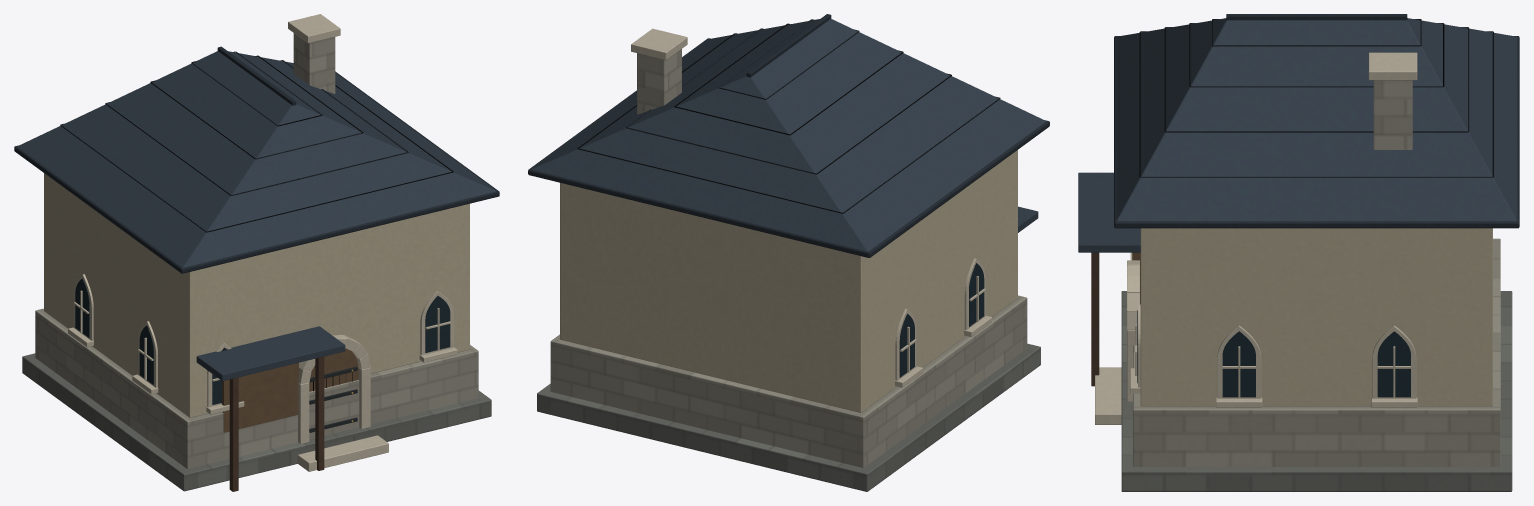
Rendered from WorkshopHouse.fbx.
3 renders of one model, left to right at view 1: azimuth 30°, elevation 25°; view 2: azimuth 150°, elevation 25°; view 3: azimuth 270°, elevation 25°, orthographic. The views are drawn at different scales.
Visible parts, largest first — view 1: WorkshopHouse.001; view 2: WorkshopHouse.001; view 3: WorkshopHouse.001.
Boxes of the visible parts, box(x1,y1,x2,y2) form: WorkshopHouse.001: box(14, 14, 499, 491); WorkshopHouse.001: box(528, 14, 1049, 491); WorkshopHouse.001: box(1078, 14, 1519, 491).
Bounding box in the file's own units: 9.31 × 9.08 × 9.26.
